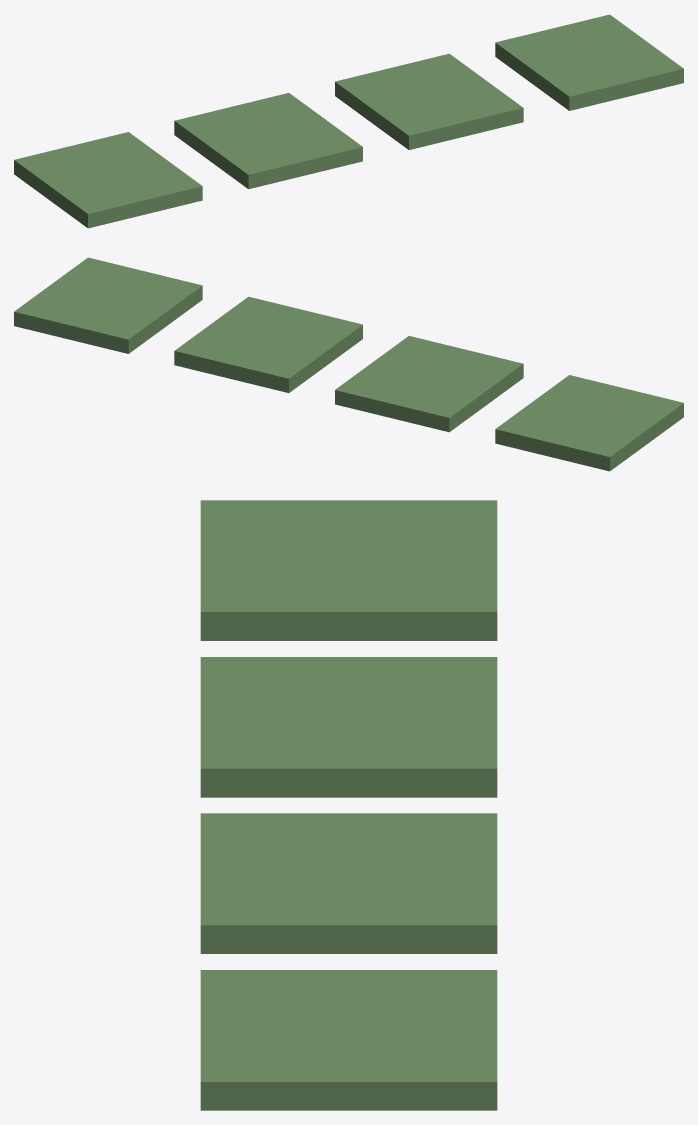
The model's file is Path.glb.
The picture shows the model from 3 angles, top to bottom: view 1: azimuth 30°, elevation 25°; view 2: azimuth 150°, elevation 25°; view 3: azimuth 270°, elevation 25°; orthographic projection. The views are drawn at different scales.
Parts seen in each view (by area): view 1: PathSlab1, PathSlab4, PathSlab2, PathSlab3; view 2: PathSlab1, PathSlab4, PathSlab2, PathSlab3; view 3: PathSlab1, PathSlab2, PathSlab3, PathSlab4.
Boxes of the visible parts, x1=… form: PathSlab1: x1=14, y1=132, x2=202, y2=228; PathSlab4: x1=495, y1=14, x2=683, y2=110; PathSlab2: x1=174, y1=93, x2=362, y2=189; PathSlab3: x1=335, y1=53, x2=523, y2=149; PathSlab1: x1=495, y1=375, x2=683, y2=471; PathSlab4: x1=14, y1=257, x2=202, y2=353; PathSlab2: x1=335, y1=336, x2=523, y2=432; PathSlab3: x1=174, y1=296, x2=362, y2=392; PathSlab1: x1=200, y1=500, x2=497, y2=640; PathSlab2: x1=200, y1=657, x2=497, y2=797; PathSlab3: x1=200, y1=813, x2=497, y2=953; PathSlab4: x1=200, y1=970, x2=497, y2=1110.
Size of the model in its own units: 2.6 by 0.06 by 0.56.
